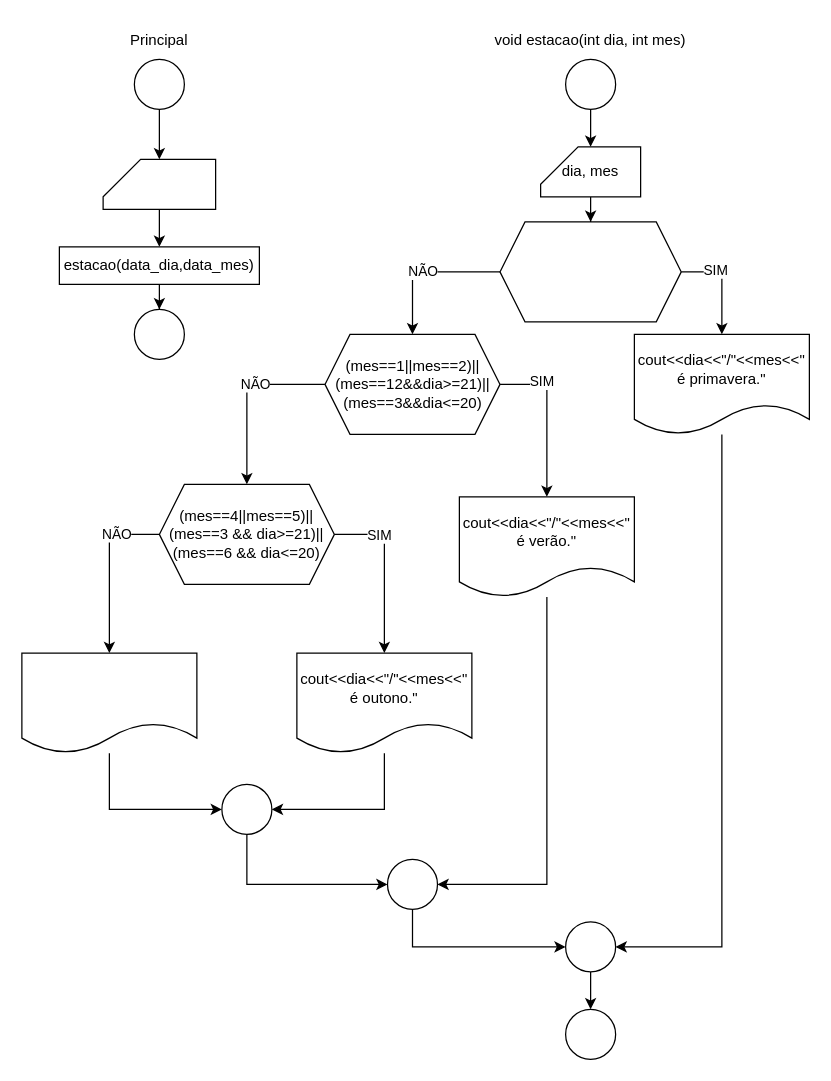
Image size: 831x1081. Some labels were removed from this diagram. The shapes that lost their labels are listed below. From the top down, each one's centre as x and y in pixels, then its label:
point (159, 183): data_dia, data_mes
point (590, 271): (mes==10||mes==11)||(mes==9&&dia>=23)||(mes==12&&dia<=20)
point (109, 702): cout<<dia<<"/"<<mes<<" é inverno."
